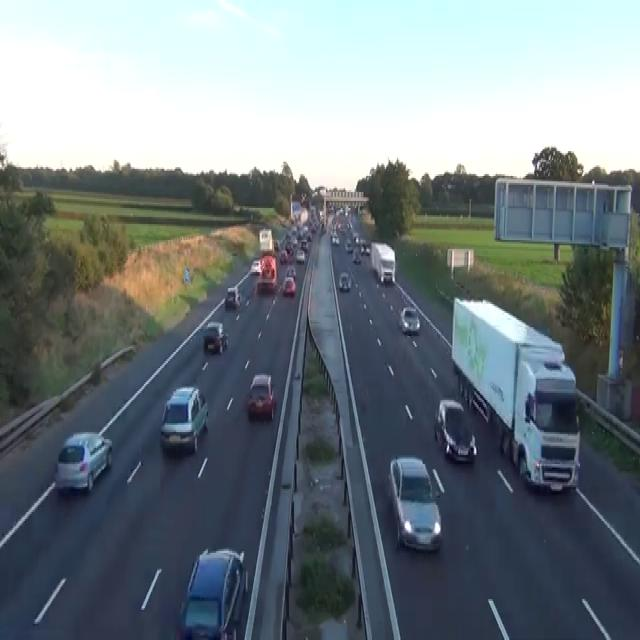Car: (174, 546, 248, 638), (388, 455, 443, 551), (54, 430, 112, 492), (159, 386, 208, 453), (433, 398, 477, 462), (457, 370, 490, 423), (246, 374, 275, 419), (202, 320, 228, 354), (470, 388, 490, 423), (399, 306, 420, 334), (281, 455, 297, 491), (379, 260, 395, 284), (225, 284, 240, 308), (441, 176, 466, 190), (338, 270, 351, 292), (282, 276, 296, 295), (250, 258, 261, 274), (359, 238, 370, 254), (284, 265, 296, 279), (380, 270, 392, 284), (295, 249, 305, 263), (352, 249, 361, 263), (344, 238, 353, 252), (279, 249, 288, 263), (331, 231, 339, 245), (300, 238, 308, 251), (273, 238, 279, 251), (352, 231, 359, 242), (319, 208, 324, 220)
Truck: (450, 295, 581, 493), (370, 242, 395, 284), (258, 254, 277, 292), (259, 228, 274, 254)
